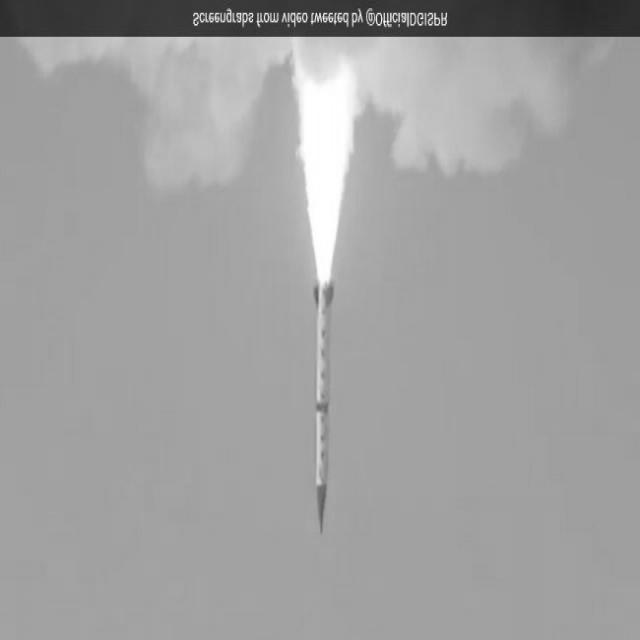Missile: (309, 279, 336, 546)
